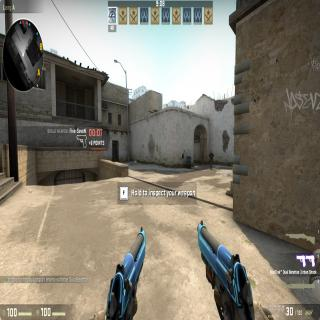T-Body: (209, 150, 213, 170)
T-Head: (210, 150, 212, 154)
